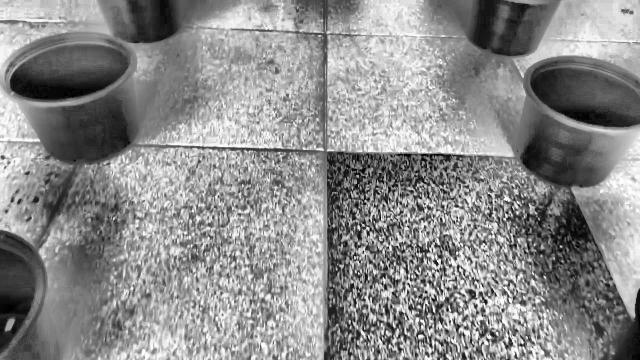pot: (0, 32, 140, 164), (514, 56, 640, 188)
